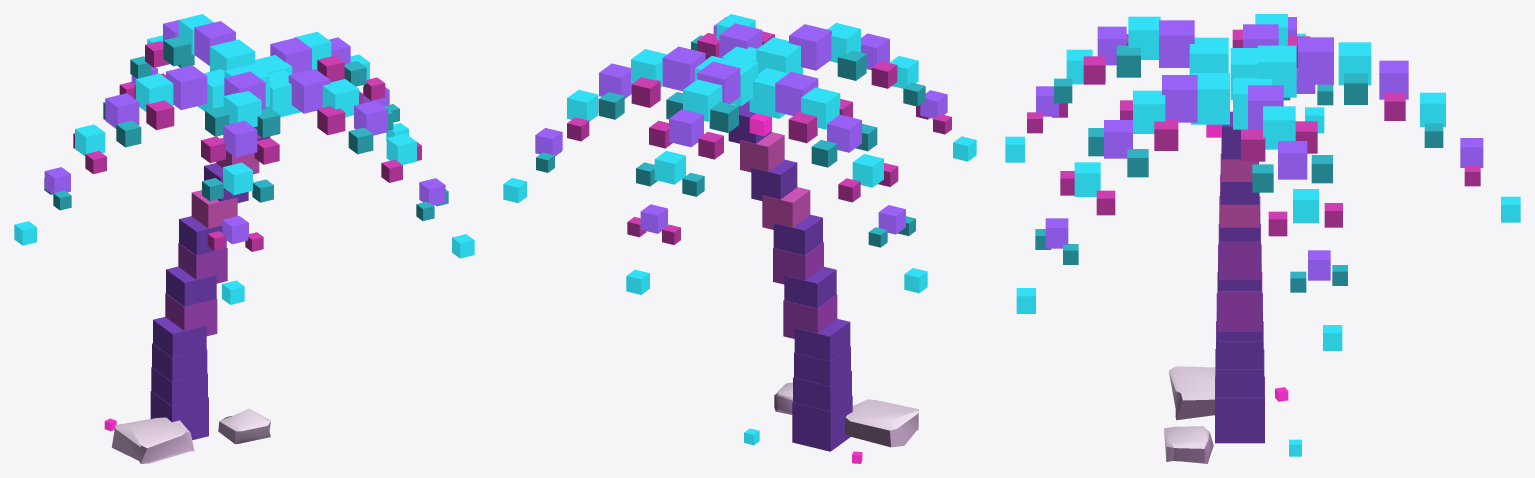
Rendered from me_palm.glb.
3 renders of one model, left to right at view 1: azimuth 30°, elevation 25°; view 2: azimuth 150°, elevation 25°; view 3: azimuth 270°, elevation 25°, orthographic. The views are drawn at different scales.
Parts seen in each view (by area): view 1: anim_sway_crown, me_palm; view 2: anim_sway_crown, me_palm; view 3: anim_sway_crown, me_palm.
Boxes of the visible parts, x1=… form: anim_sway_crown: x1=14, y1=14, x2=474, y2=304; me_palm: x1=104, y1=136, x2=270, y2=463; anim_sway_crown: x1=503, y1=14, x2=976, y2=294; me_palm: x1=728, y1=101, x2=919, y2=463; anim_sway_crown: x1=1005, y1=14, x2=1520, y2=350; me_palm: x1=1164, y1=111, x2=1301, y2=463.
Bounding box in the file's own units: 5.76 × 5.07 × 5.55.
Materials: 2 (2 with a texture image).
